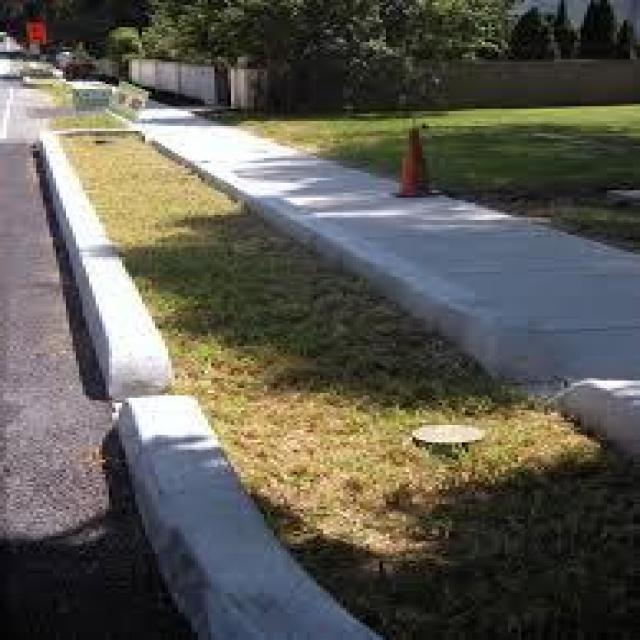curb: (110, 410, 346, 634), (26, 146, 165, 385)
